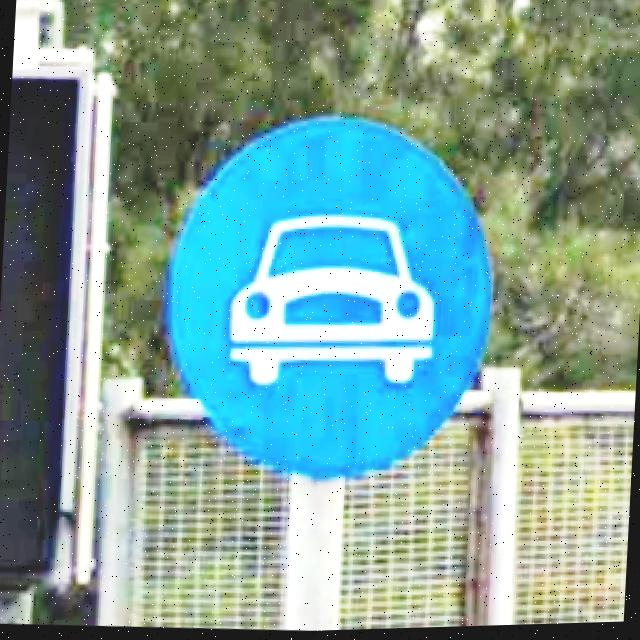car: (157, 101, 502, 493)
